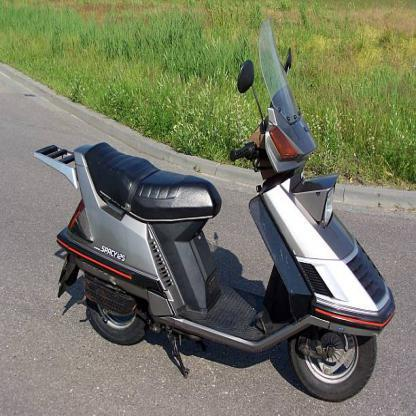Motorcycle: (36, 60, 390, 401)
